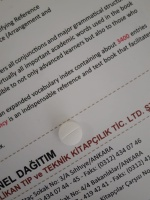Arveles: (57, 120, 83, 147)
